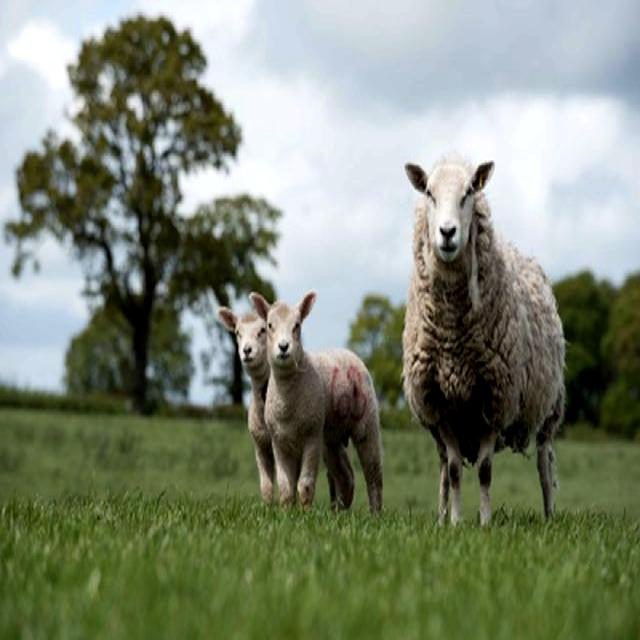sheep: (401, 156, 568, 531), (251, 292, 383, 525)
